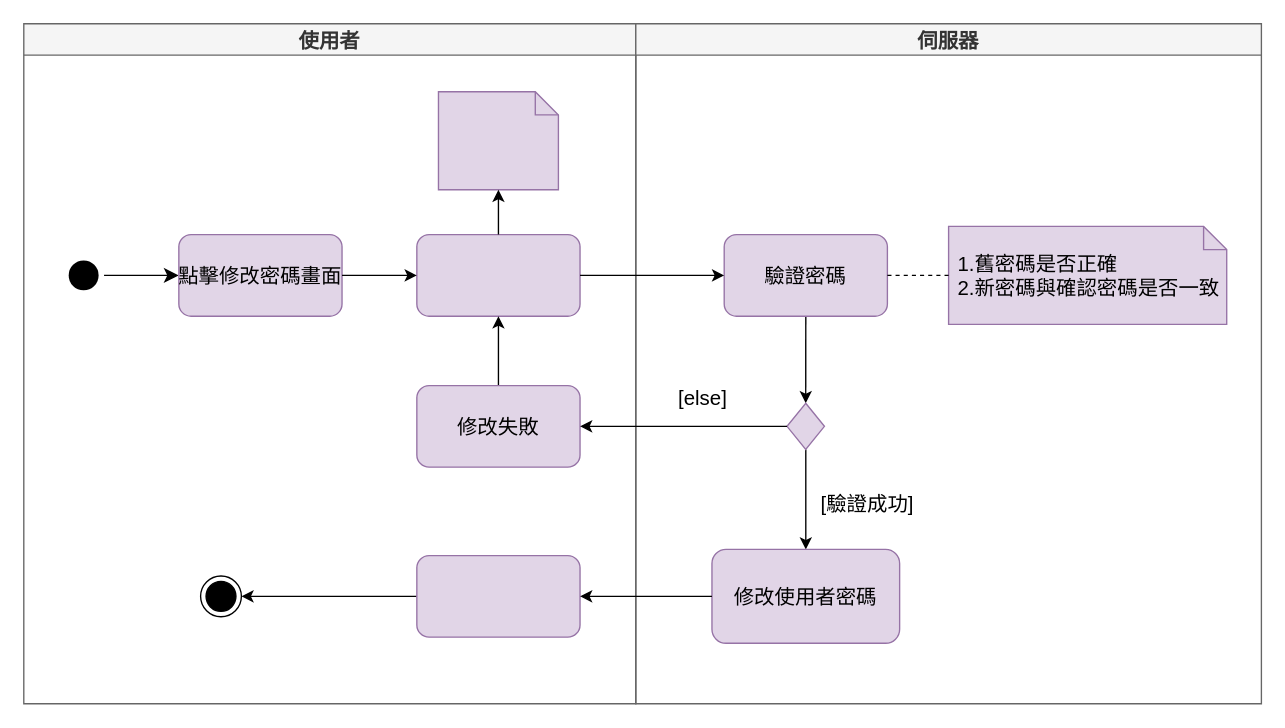
Image size: 1285x728. Some labels were removed from this diagram. Each missing label, with the centre of its shape:
1.舊密碼 2.新密碼 3.確認密碼: the point at 497,140
修改成功: the point at 497,595
輸入密碼資訊: the point at 497,274
